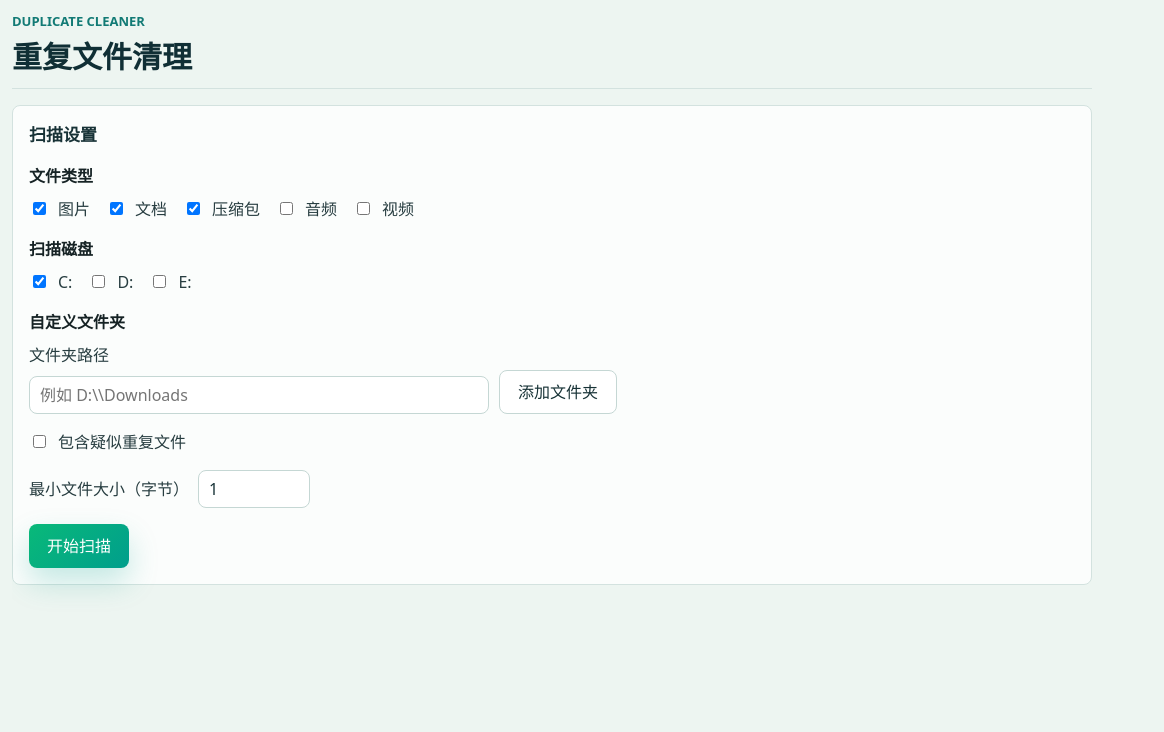
Scenario: DuplicateCleanerPage › cleans up partial listeners and restores settings when duplicate scan subscription fails
Click the button "开始扫描".
click(79, 546)  # box [29, 524, 129, 568]
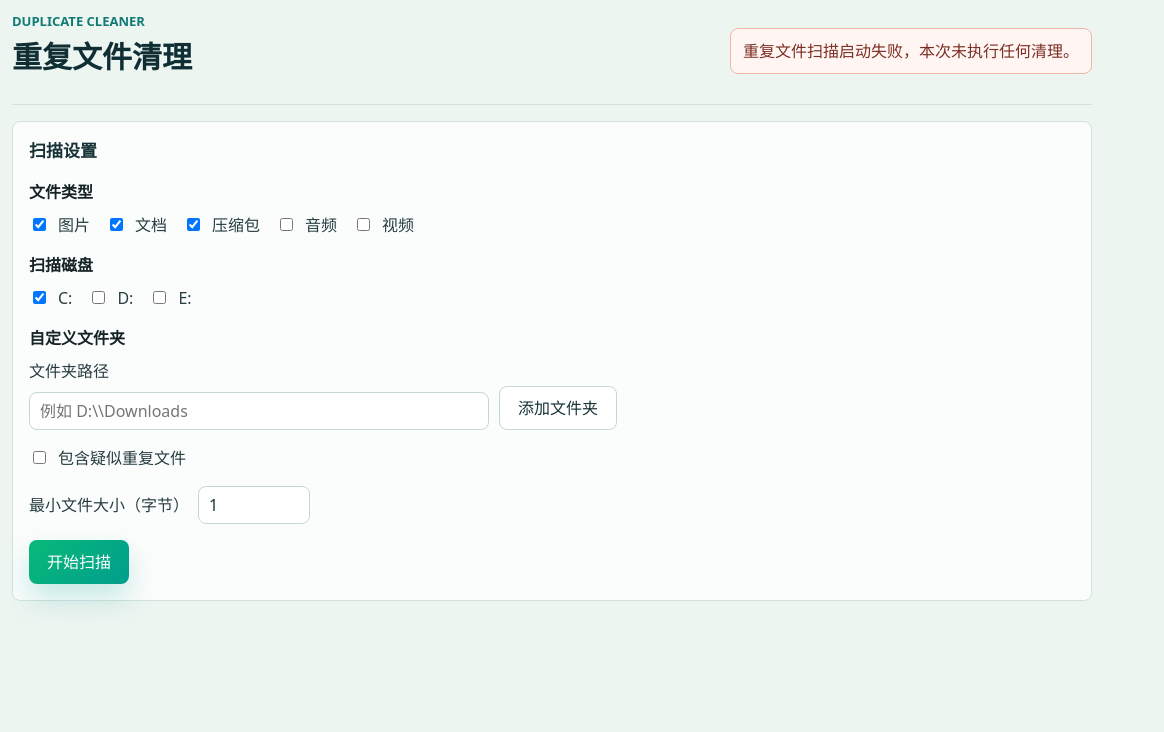
Expected: the button "开始扫描" is shown, [29, 540, 129, 584]
Result: the text "重复文件扫描启动失败，本次未执行任何清理。" is shown at [730, 28, 1092, 74]
